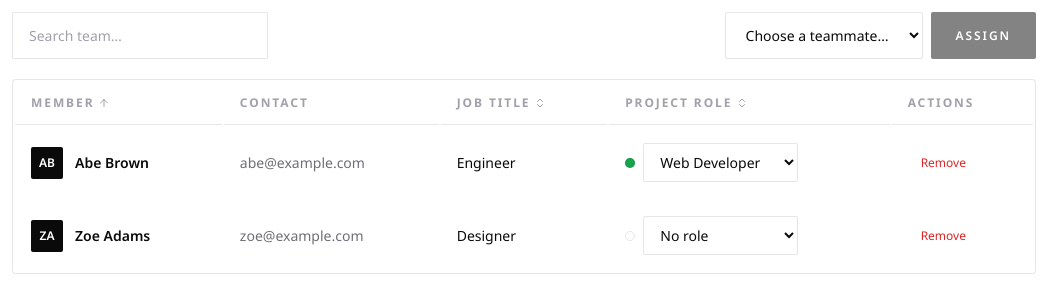
Scenario: ProjectTeamTable › filters rows by the search box
This screenshot has width=1048, height=291.
Type "abe" into the search field labelled "Search team" at point(140, 36), box [12, 12, 268, 59]
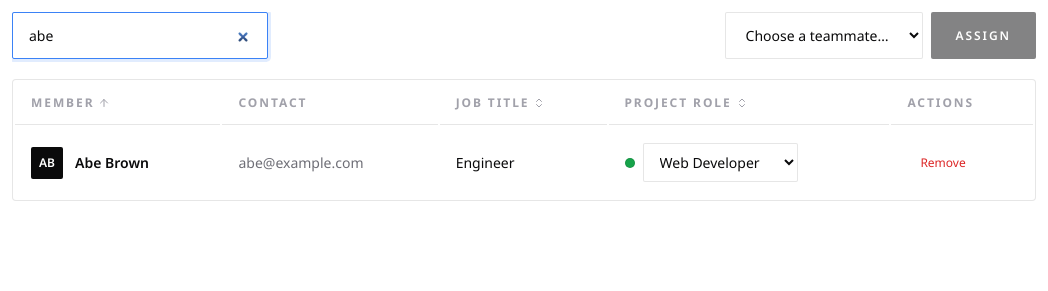
Expected: the text "Abe Brown" is shown, [75, 152, 149, 173]
Now the text "Zoe Adams" is gone
